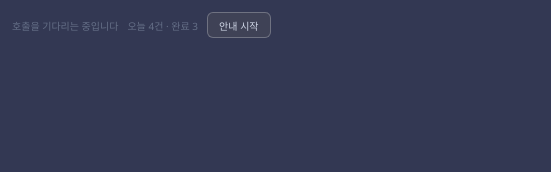
it: 근무 칩 — 시나리오 근무 › 서버가 거절하면 그 이유를 보여 준다
Click the button "안내 시작" at (239,25), box [207,12,271,38]
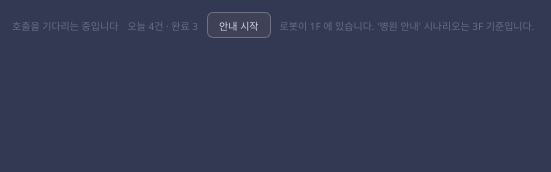
Expected: the text "로봇이 1F 에 있습니다. '병원 안내' 시나리오는 3F 기준입니다." is shown, [280,18,534,32]
